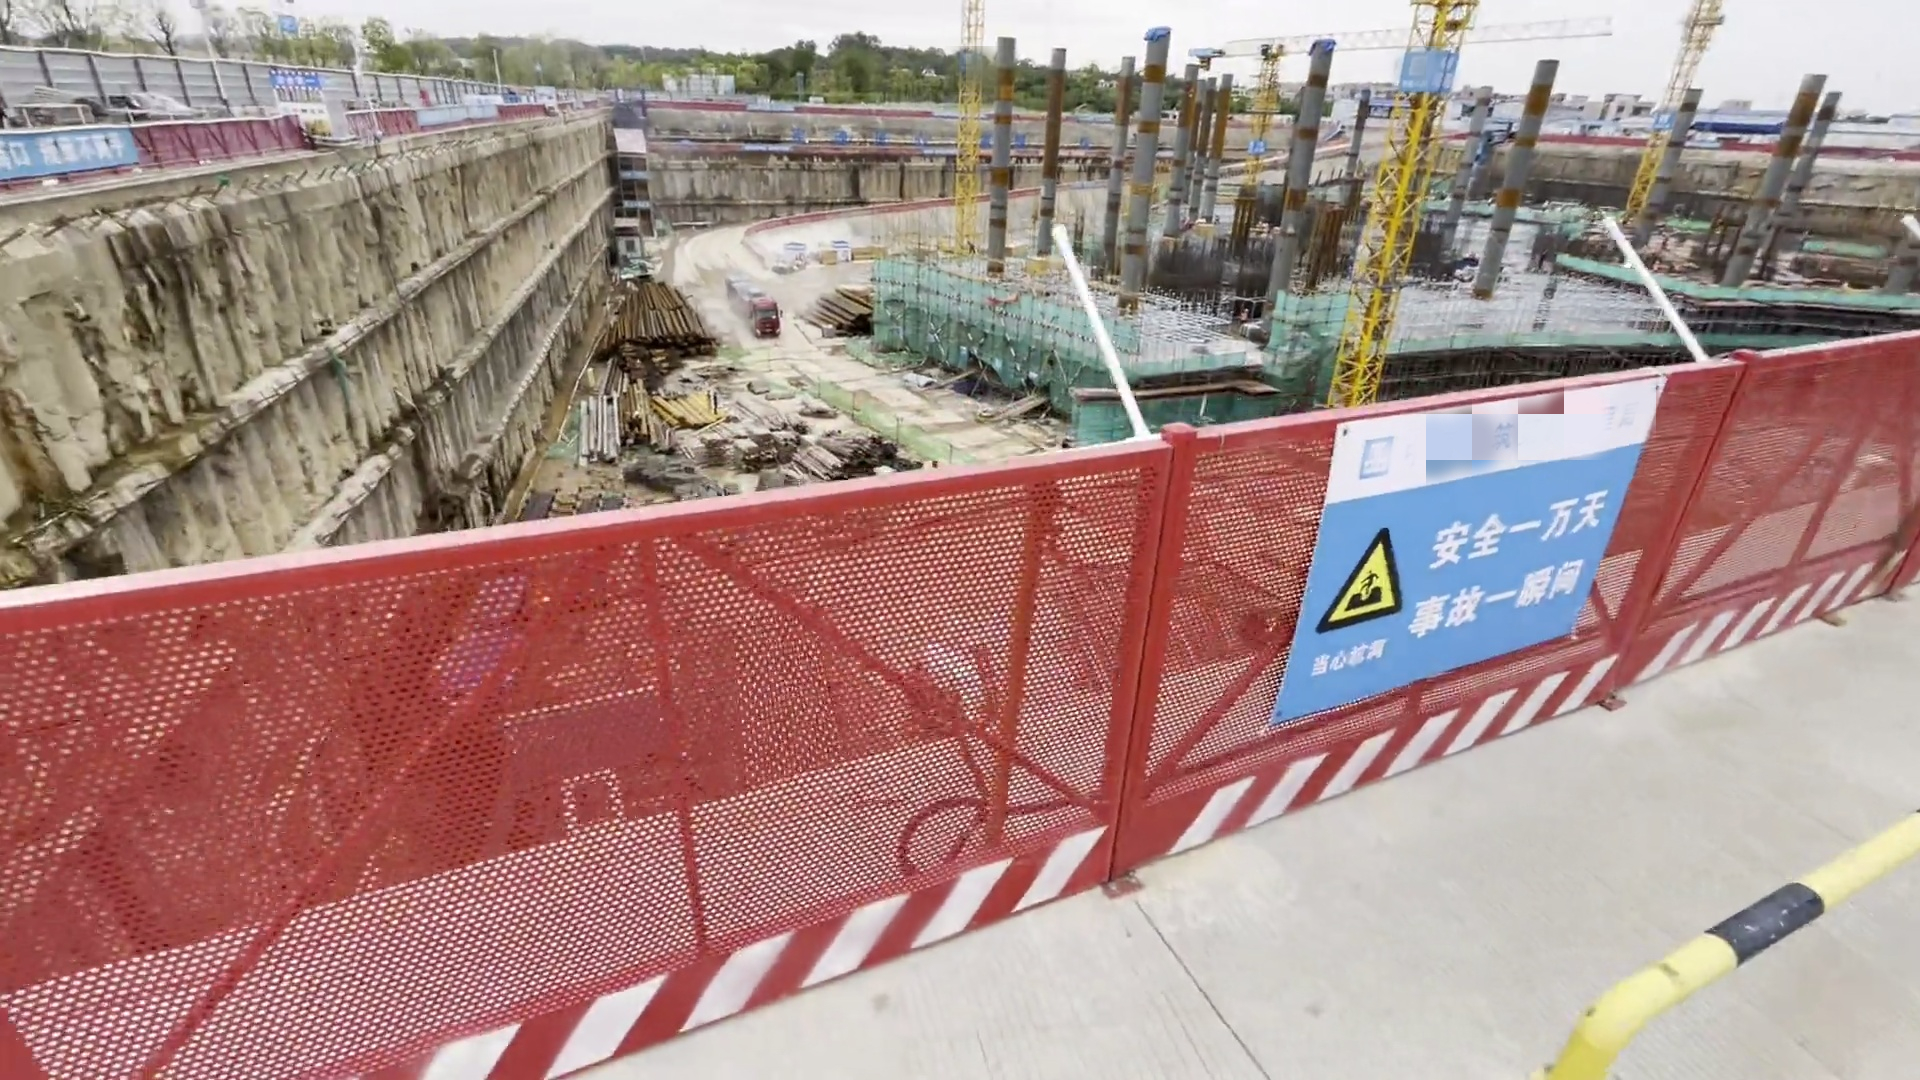fence: (1, 465, 1807, 1031), (145, 131, 314, 175)
slogan: (1329, 421, 1611, 657), (1, 144, 145, 181), (791, 127, 932, 142), (744, 146, 793, 156)
wood: (705, 421, 884, 469)
